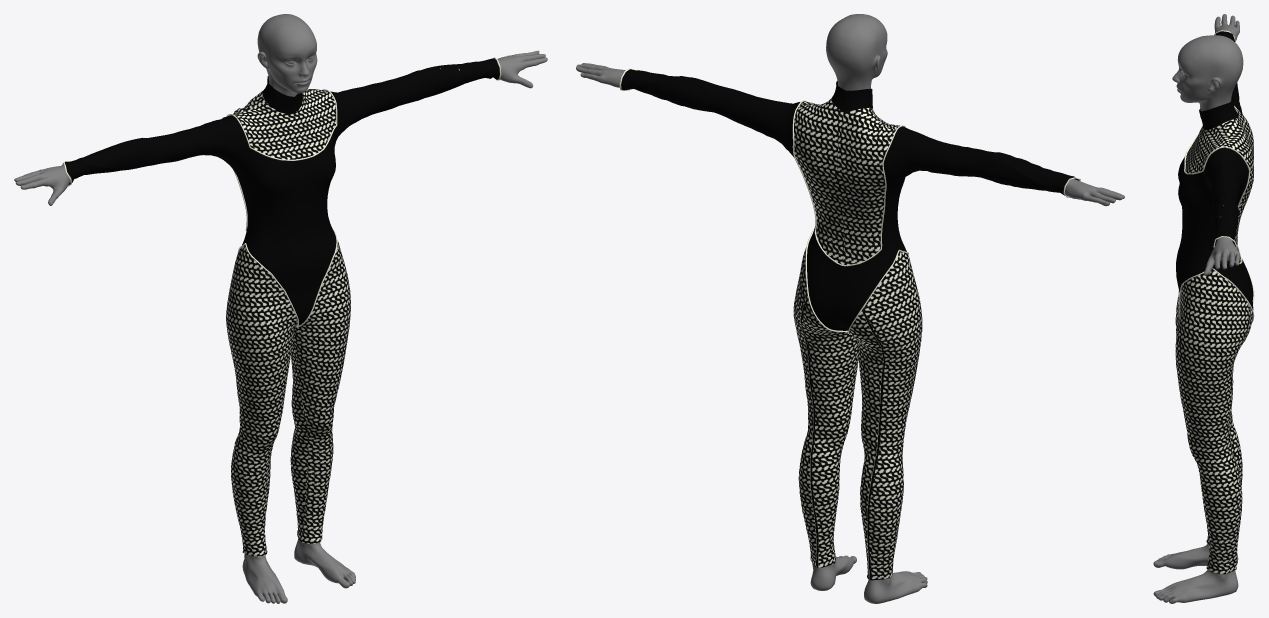
File: catsuit.glb
3 views of the same model, side by side, from view 1: azimuth 30°, elevation 25°; view 2: azimuth 150°, elevation 25°; view 3: azimuth 270°, elevation 25° (orthographic). The views are drawn at different scales.
Parts seen in each view (by area): view 1: T-POSE_Small size_Catsuit_FBX; view 2: T-POSE_Small size_Catsuit_FBX; view 3: T-POSE_Small size_Catsuit_FBX.
Part boxes in pixels (bbox=[...]): T-POSE_Small size_Catsuit_FBX: bbox=[14, 14, 547, 603]; T-POSE_Small size_Catsuit_FBX: bbox=[576, 14, 1124, 603]; T-POSE_Small size_Catsuit_FBX: bbox=[1153, 14, 1254, 603].
Bounding box in the file's own units: 1.72 × 1.73 × 0.2913.
Materials: 15 (11 with a texture image).
